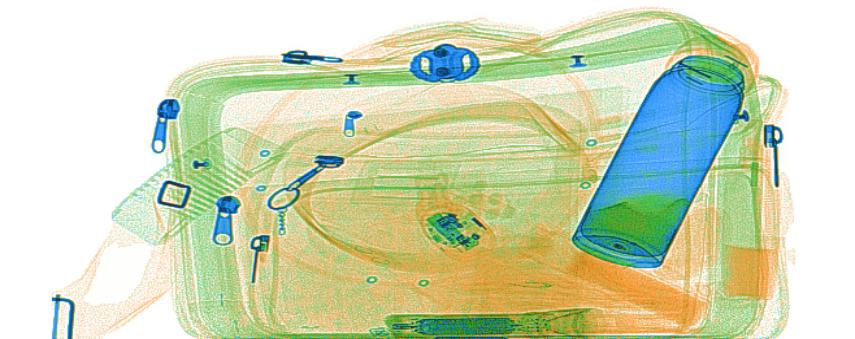battery: (416, 314, 516, 336)
plasticBottleWithaNozzle: (721, 107, 778, 299)
